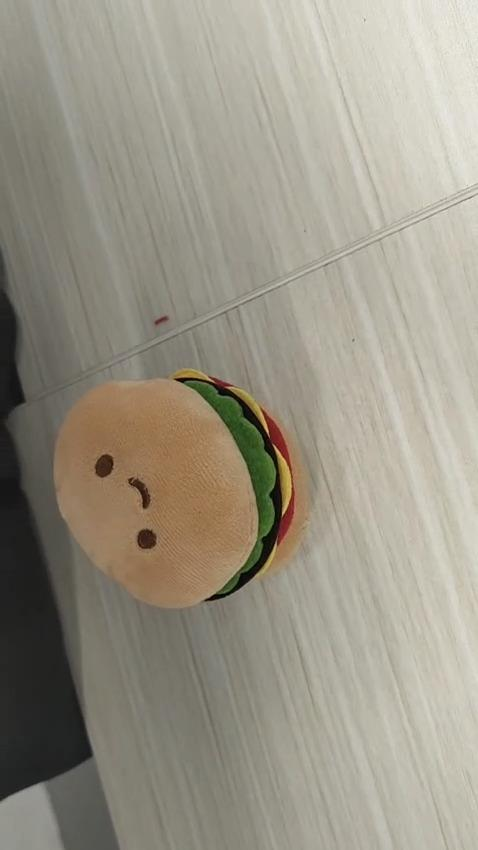hamburger: (40, 359, 317, 605)
